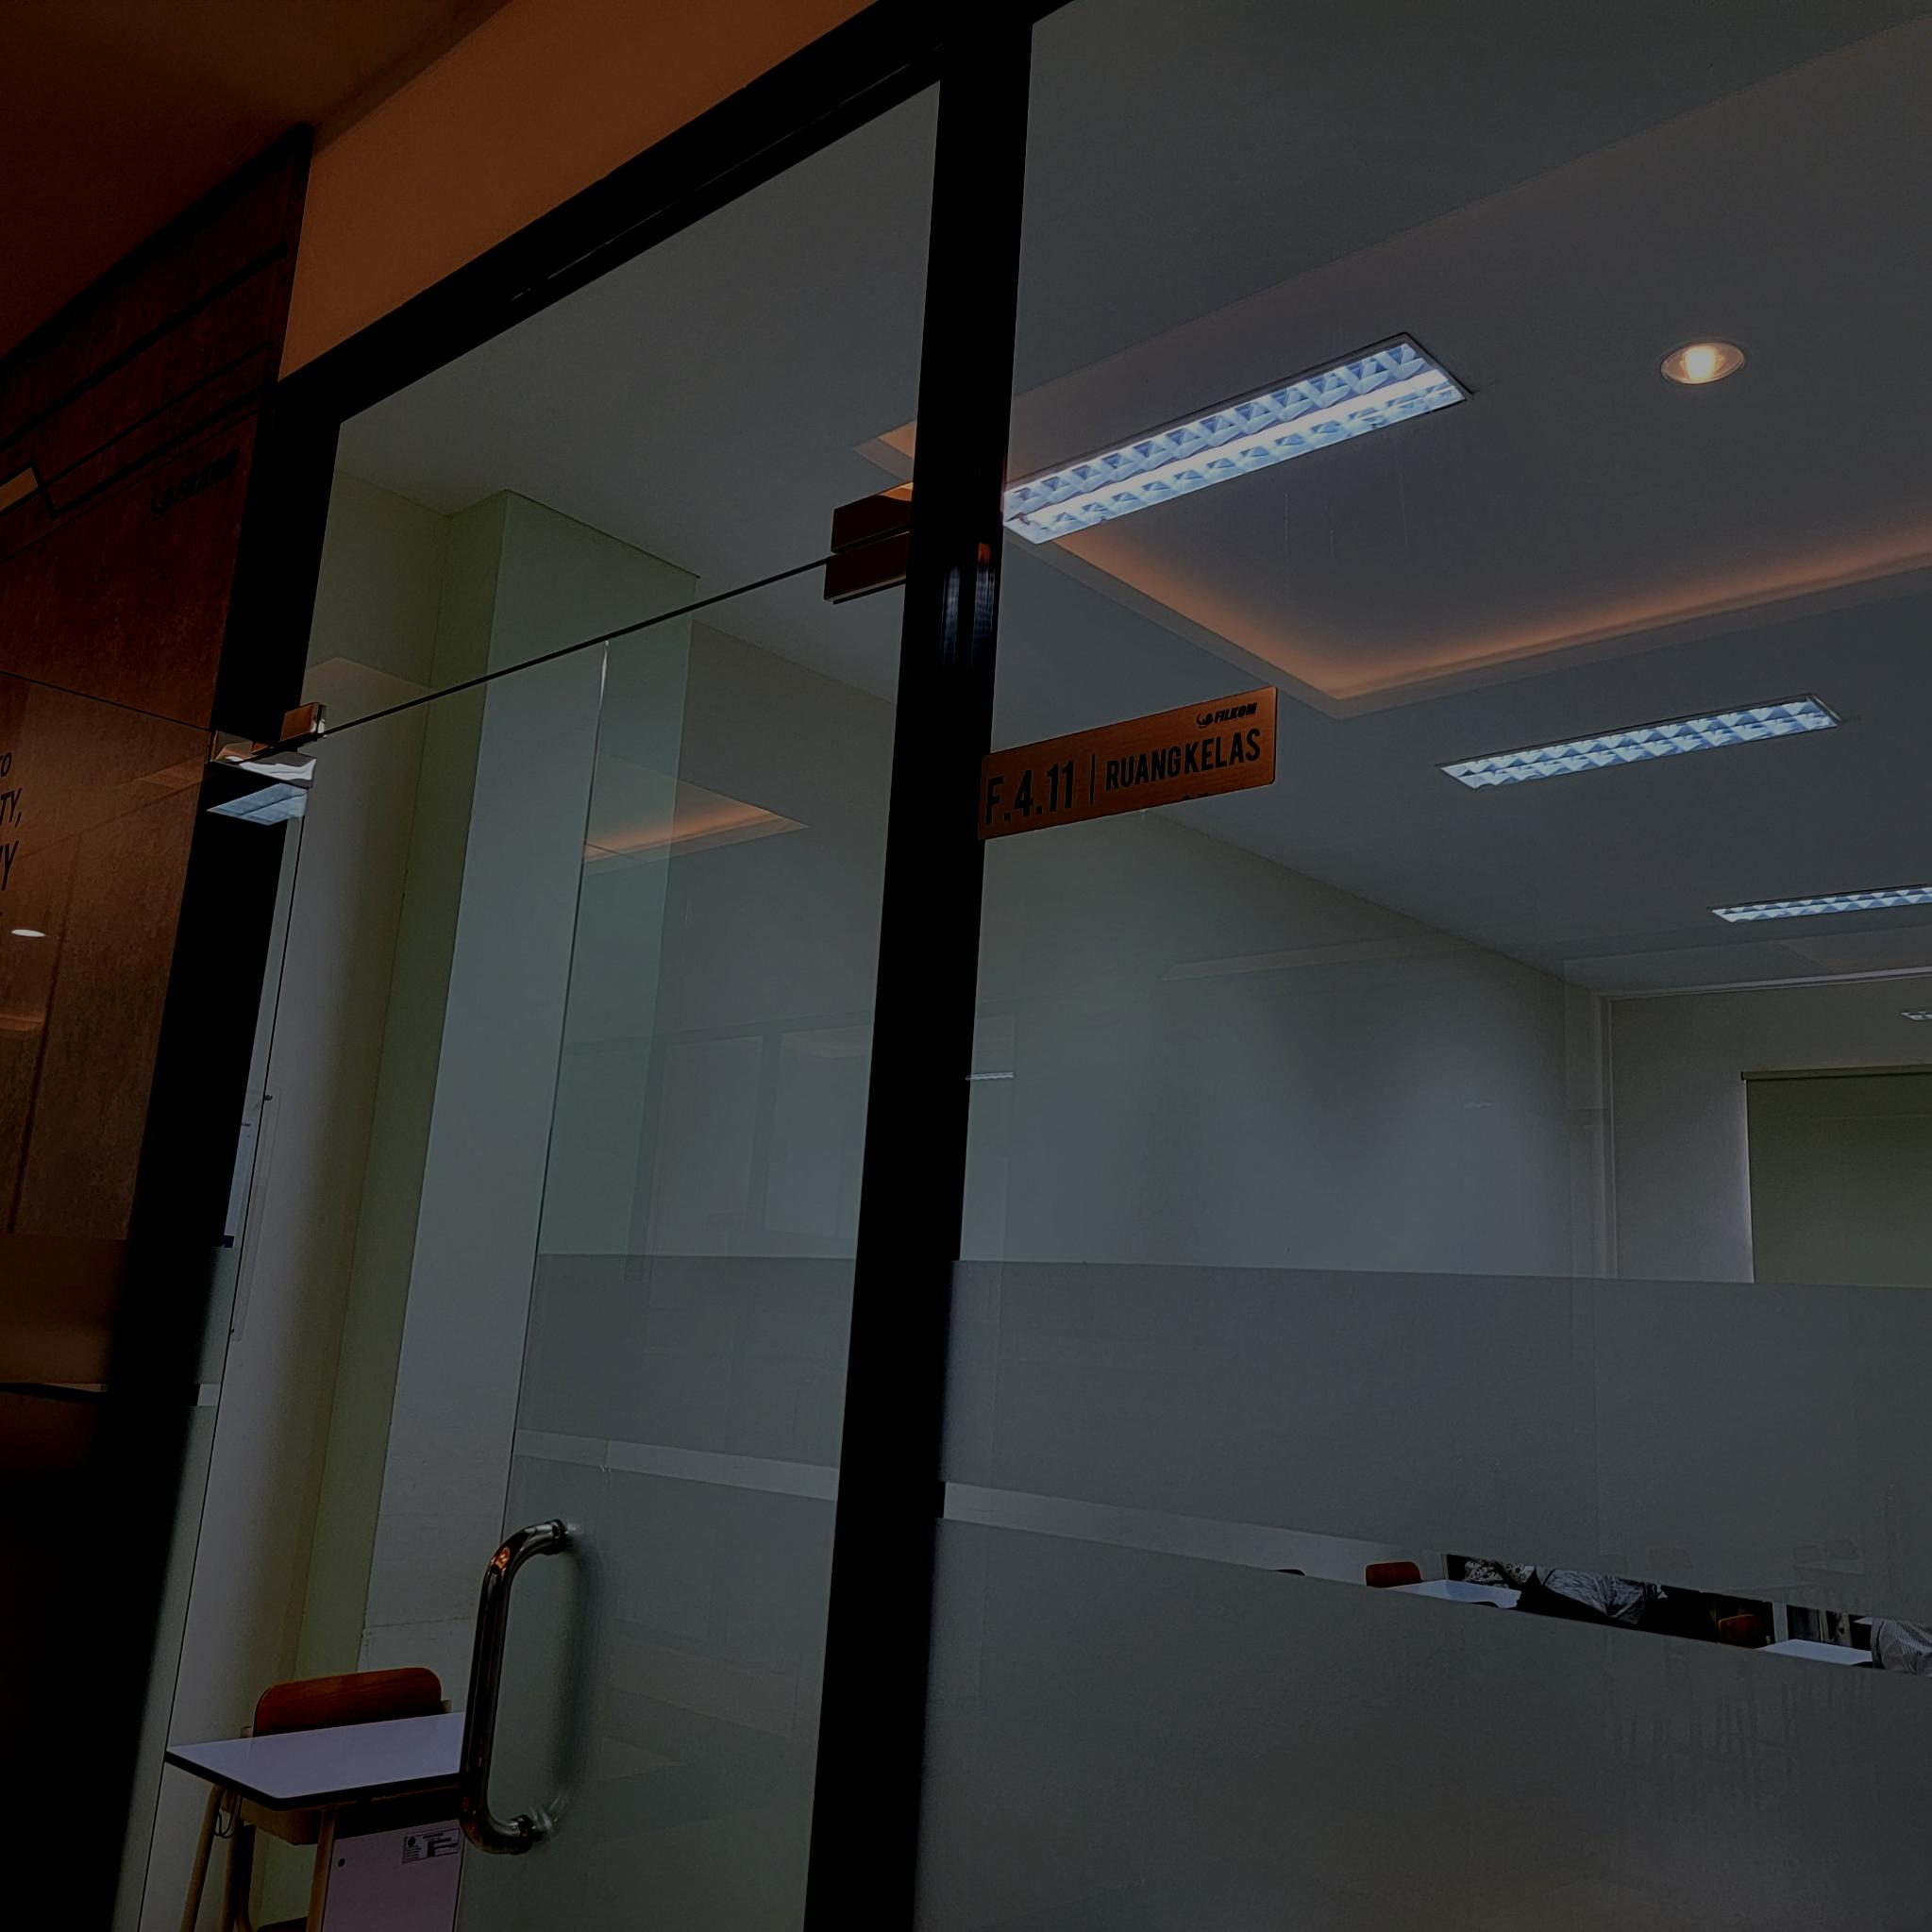plate: (973, 686, 1281, 842)
